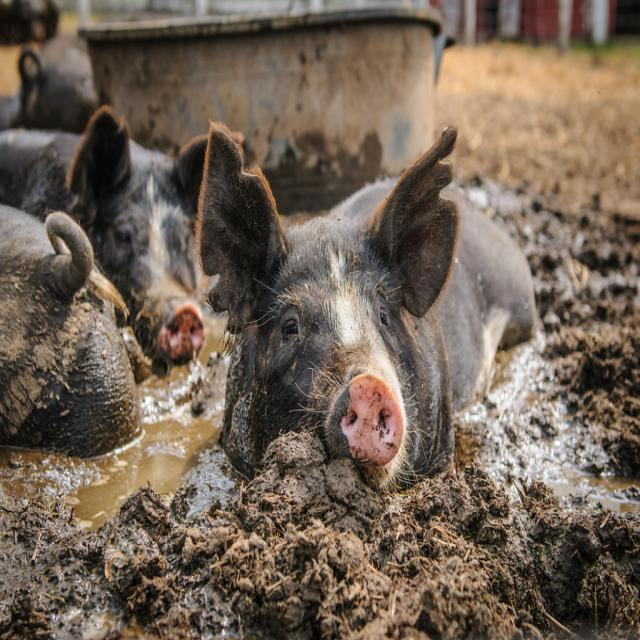Pig: (0, 34, 536, 498)
